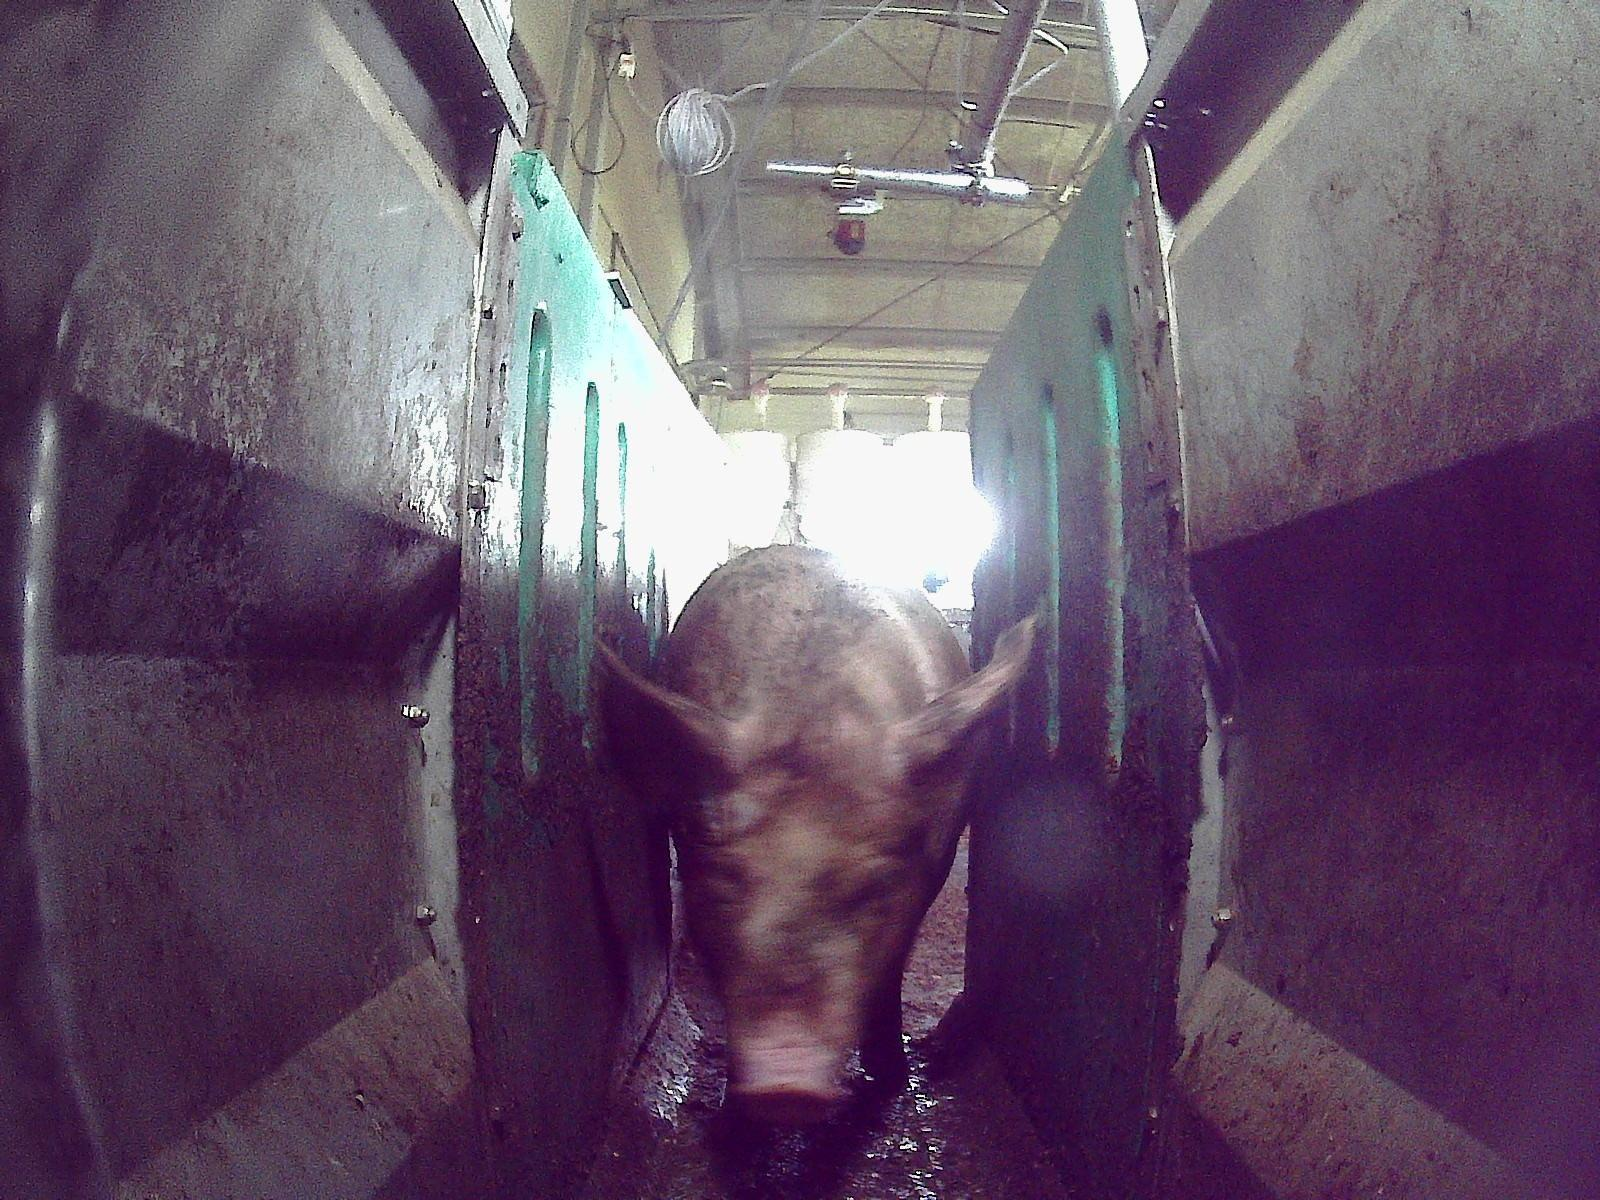Face: (668, 745, 934, 1120)
